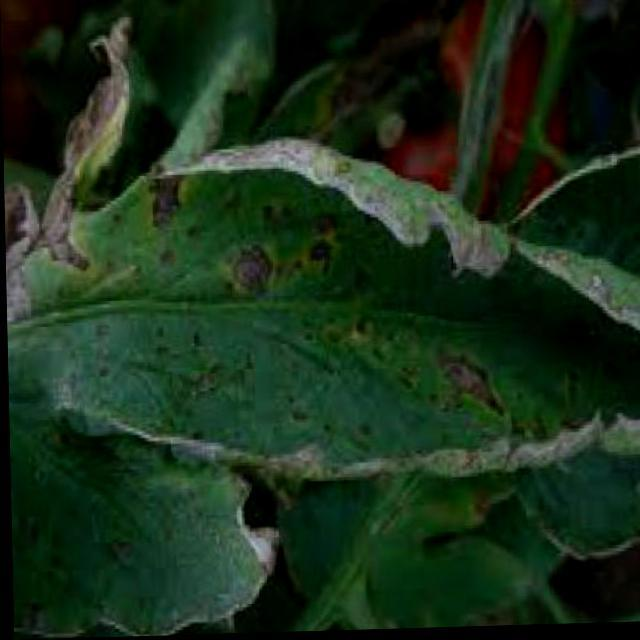Tomato late blight leaf: (7, 113, 639, 554)
